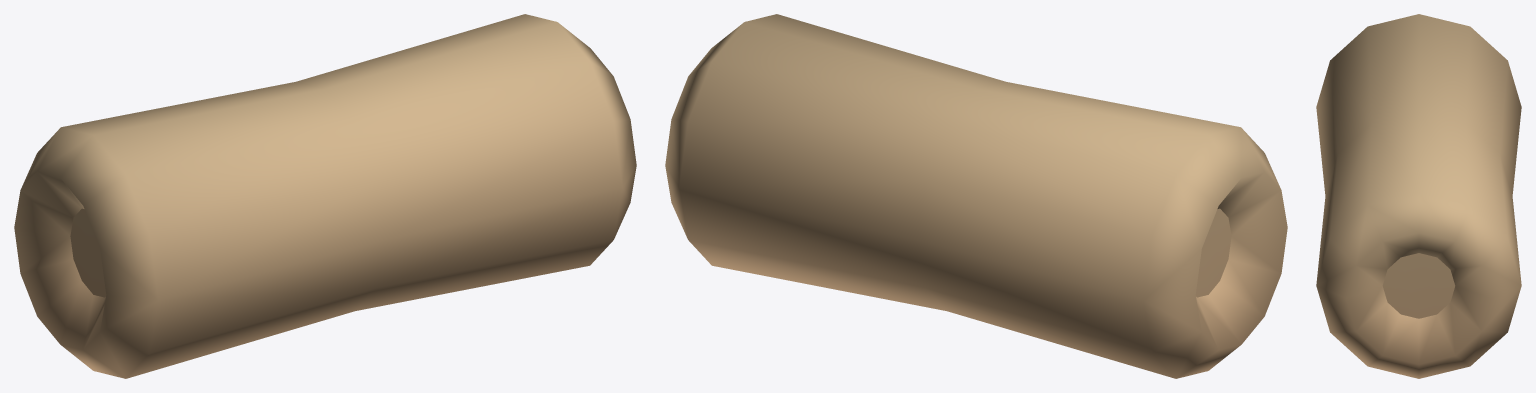
The model's file is towel-rolled_0.glb.
The picture shows the model from 3 angles, left to right: view 1: azimuth 30°, elevation 25°; view 2: azimuth 150°, elevation 25°; view 3: azimuth 270°, elevation 25°; orthographic projection. The views are drawn at different scales.
Parts seen in each view (by area): view 1: towel-rolled; view 2: towel-rolled; view 3: towel-rolled.
Part boxes in pixels (x1,y1,x2,y2): towel-rolled: [14, 14, 636, 378]; towel-rolled: [665, 14, 1287, 378]; towel-rolled: [1316, 14, 1521, 378].
Size of the model in its own units: 0.4 by 0.1698 by 0.1698.
